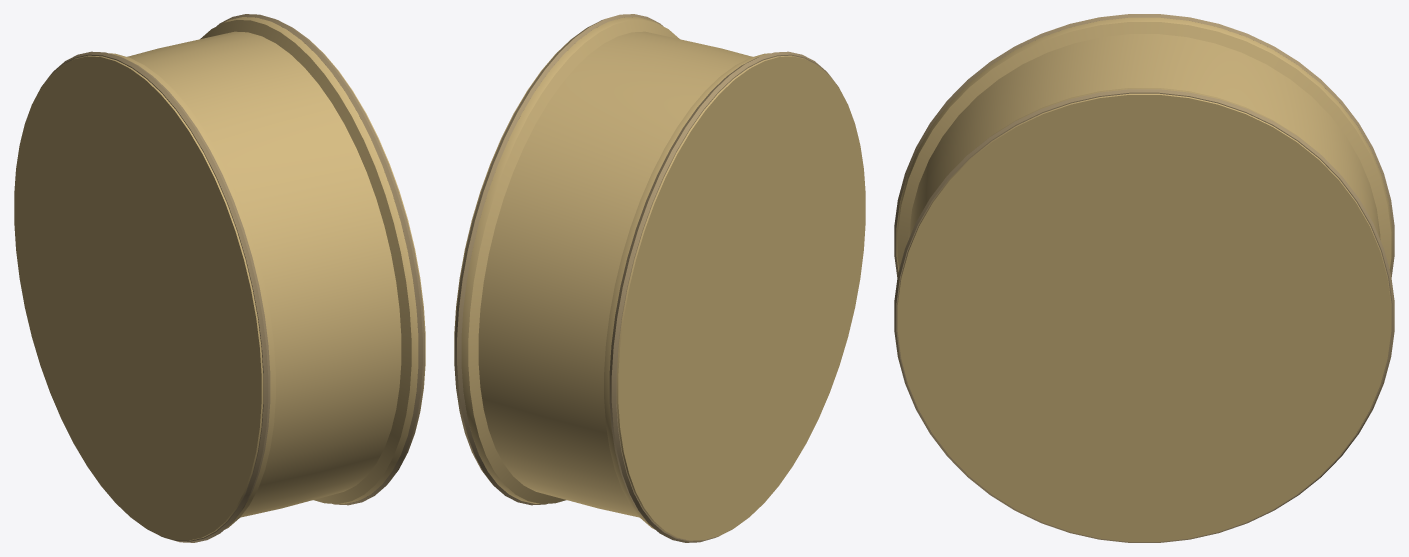
The model's file is cryptex_ring.glb.
3 renders of one model, left to right at view 1: azimuth 30°, elevation 25°; view 2: azimuth 150°, elevation 25°; view 3: azimuth 270°, elevation 25°, orthographic.
Visible parts, largest first — view 1: cryptex_ring; view 2: cryptex_ring; view 3: cryptex_ring.
Boxes of the visible parts, box(x1,y1,x2,y2) form: cryptex_ring: box(14, 14, 425, 542); cryptex_ring: box(454, 14, 865, 542); cryptex_ring: box(894, 14, 1394, 542).
Size of the model in its own units: 0.052 by 0.1377 by 0.1377.
